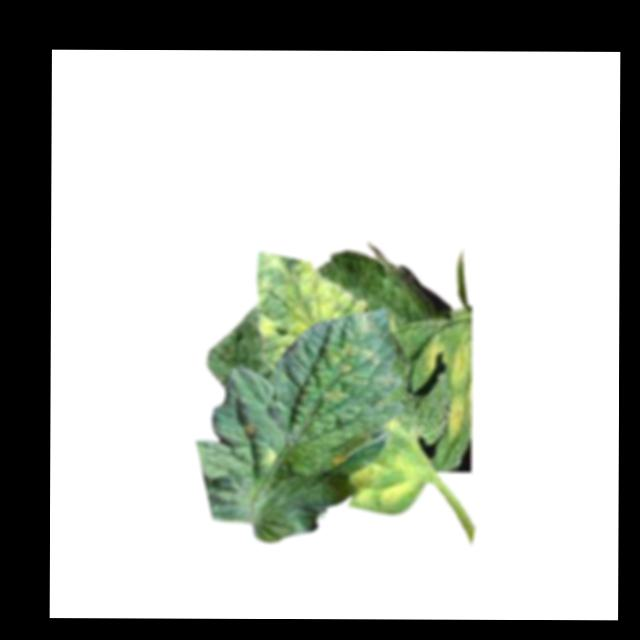Leaf_Mold: (255, 251, 368, 358), (347, 452, 420, 513), (324, 315, 387, 376), (442, 393, 468, 443), (451, 342, 472, 392), (320, 379, 354, 406), (427, 340, 448, 372), (327, 445, 348, 468), (261, 443, 276, 469)
